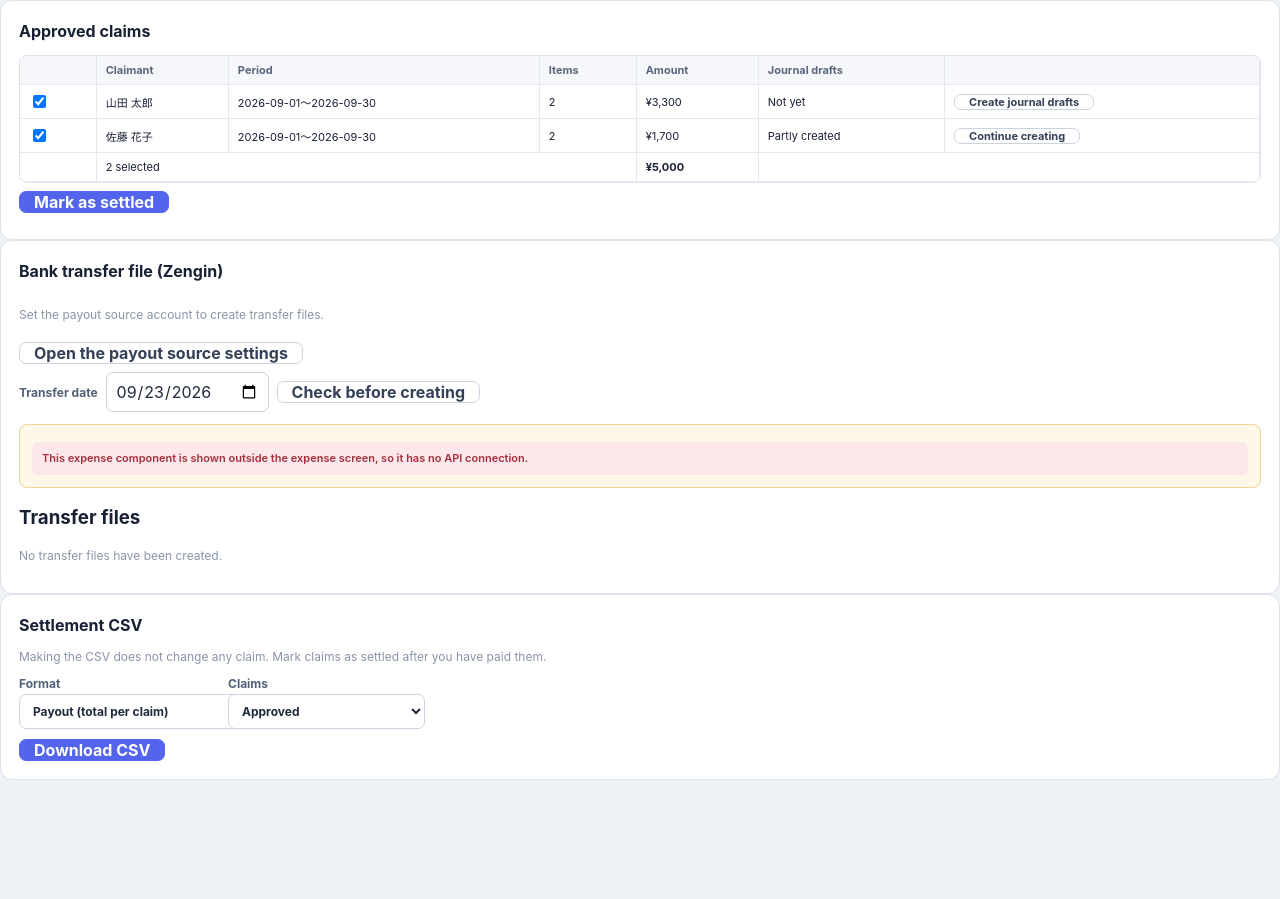
Scenario: SettleTab › 正常: 精算済みにするは対象を並べた確認ダイアログを挟み、出力したファイル名を添える
Step 1. Click the button "Download CSV" → (92, 750), box [19, 739, 165, 761]
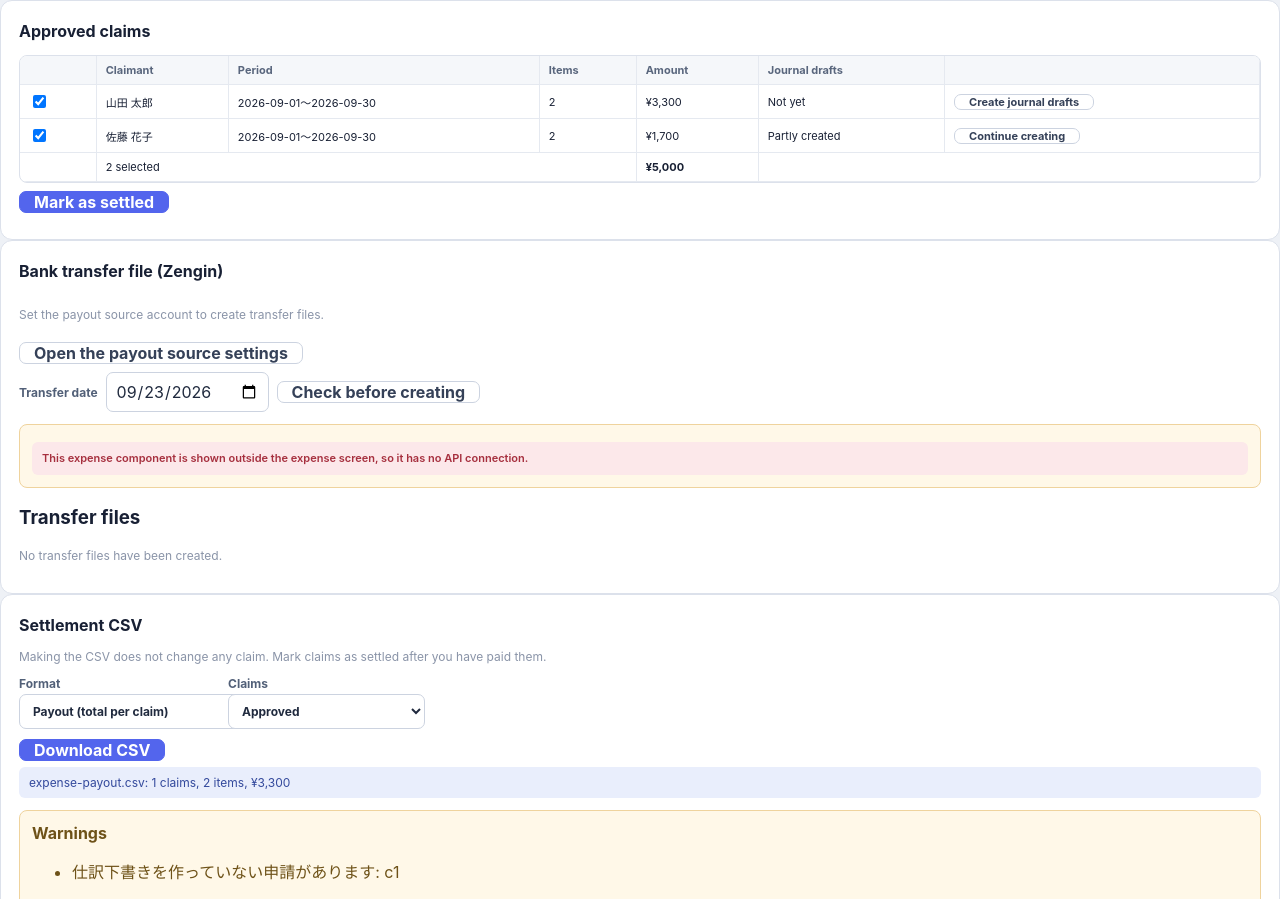
Now the list item "仕訳下書きを作っていない申請があります: c1" is shown, box [72, 862, 399, 882]
Step 2. Click the button "Mark as settled" → (94, 202), box [19, 191, 169, 213]
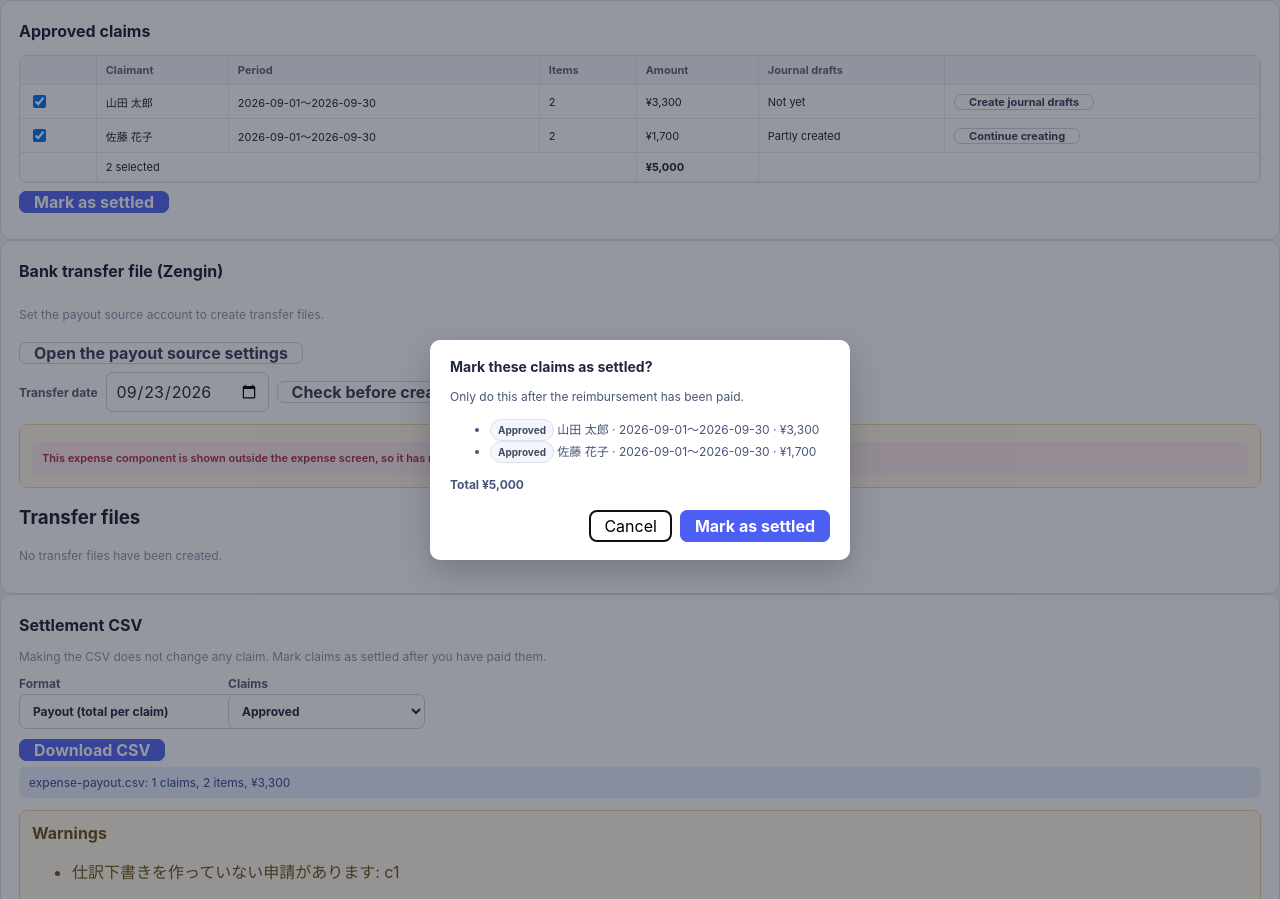
Now the list item "Approved 佐藤 花子 · 2026-09-01〜2026-09-30 · ¥1,700" is shown, box [490, 440, 830, 462]
Now the text "Total ¥5,000" is shown, box [450, 476, 524, 492]
Step 3. Click the button "Mark as settled" → (755, 526), box [680, 510, 830, 542]
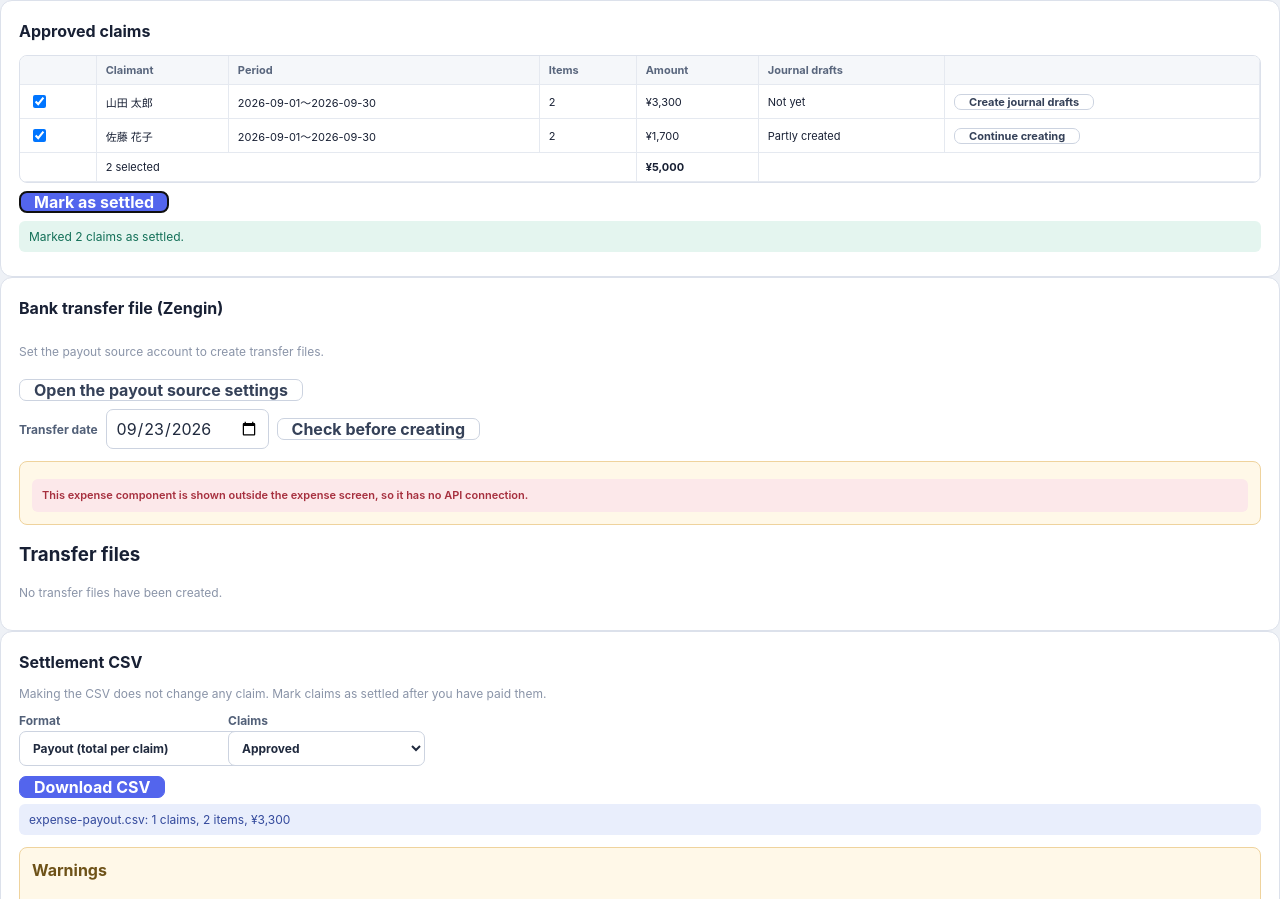
Now the text "Marked 2 claims as settled." is shown, box [19, 221, 1261, 252]
